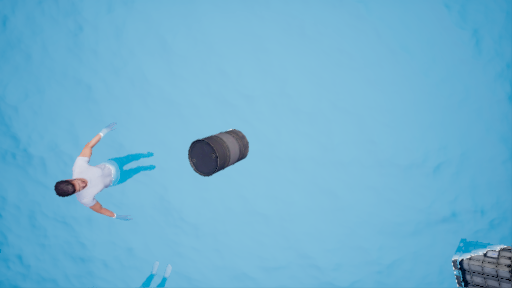person: (52, 126, 153, 227)
